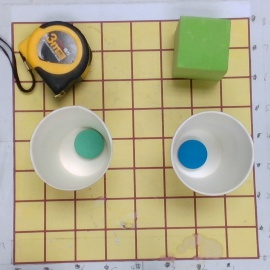cup_blue: (161, 111, 254, 196)
cup_green: (31, 107, 122, 191)
